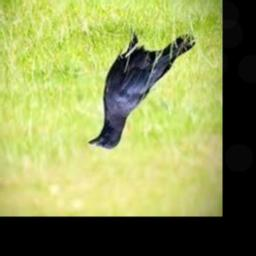Crow: (87, 23, 195, 149)
